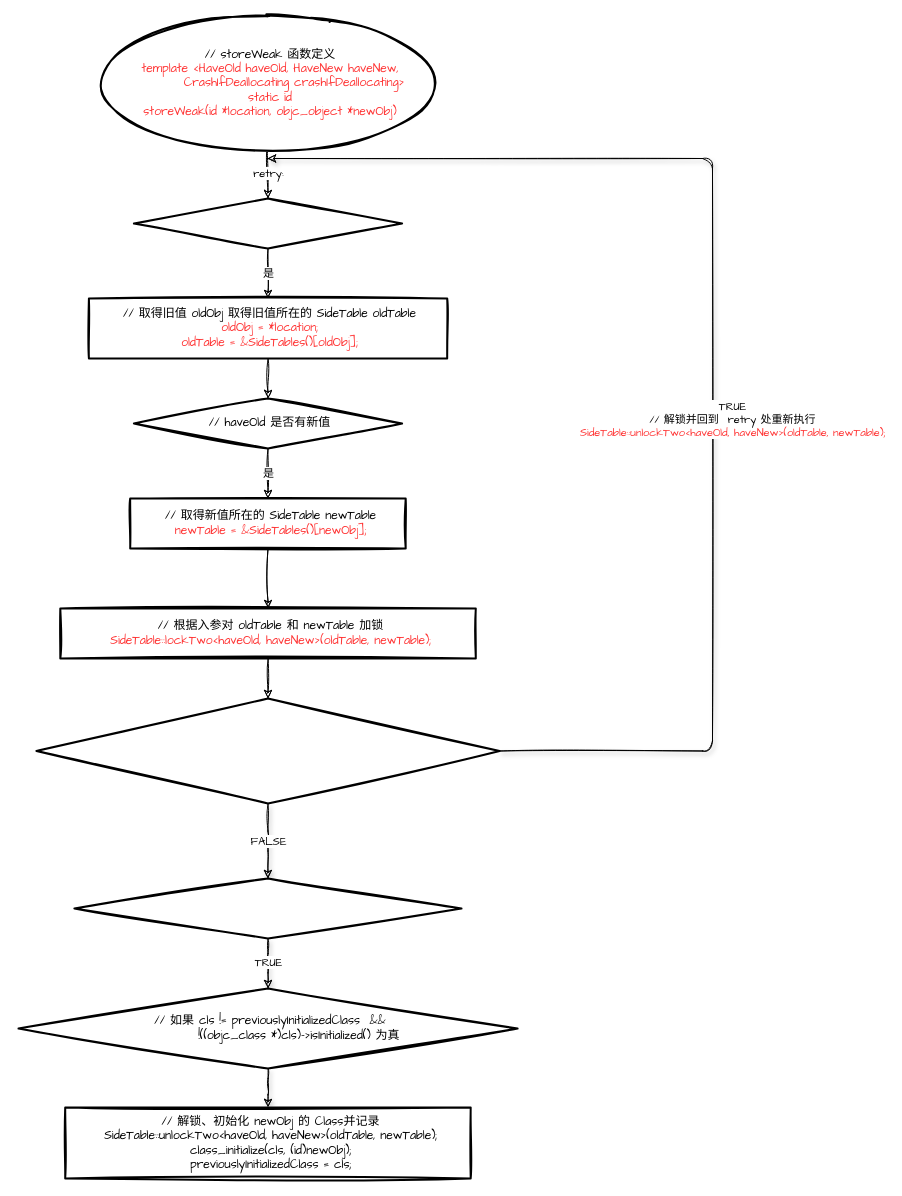
The diagram is 902 pixels wide and 1196 high, and some of its shapes have lost their labels. The centre of each missing label's shape, as x and y in pixels:
"// haveOld 是否有旧值" goes at point 267,223.
"// 如果 haveNew && newObj 为真" goes at point 267,908.
"// 如果 haveOld && *location != oldObj 为真 （可能是其他并发线程修改了 *location 的指向）" goes at point 267,750.
